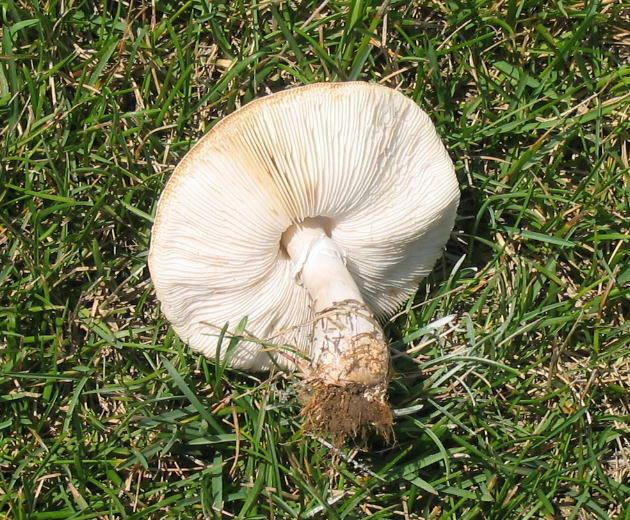poisonous_mushroom: (146, 79, 461, 447)
